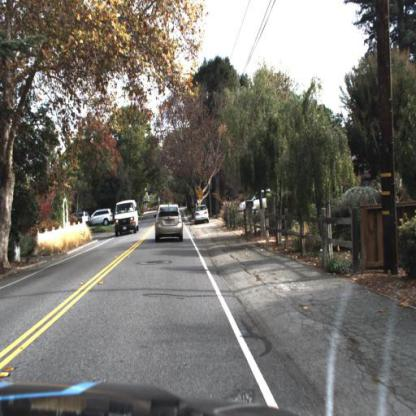car: (153, 204, 183, 244), (116, 198, 140, 236), (192, 205, 212, 228)
